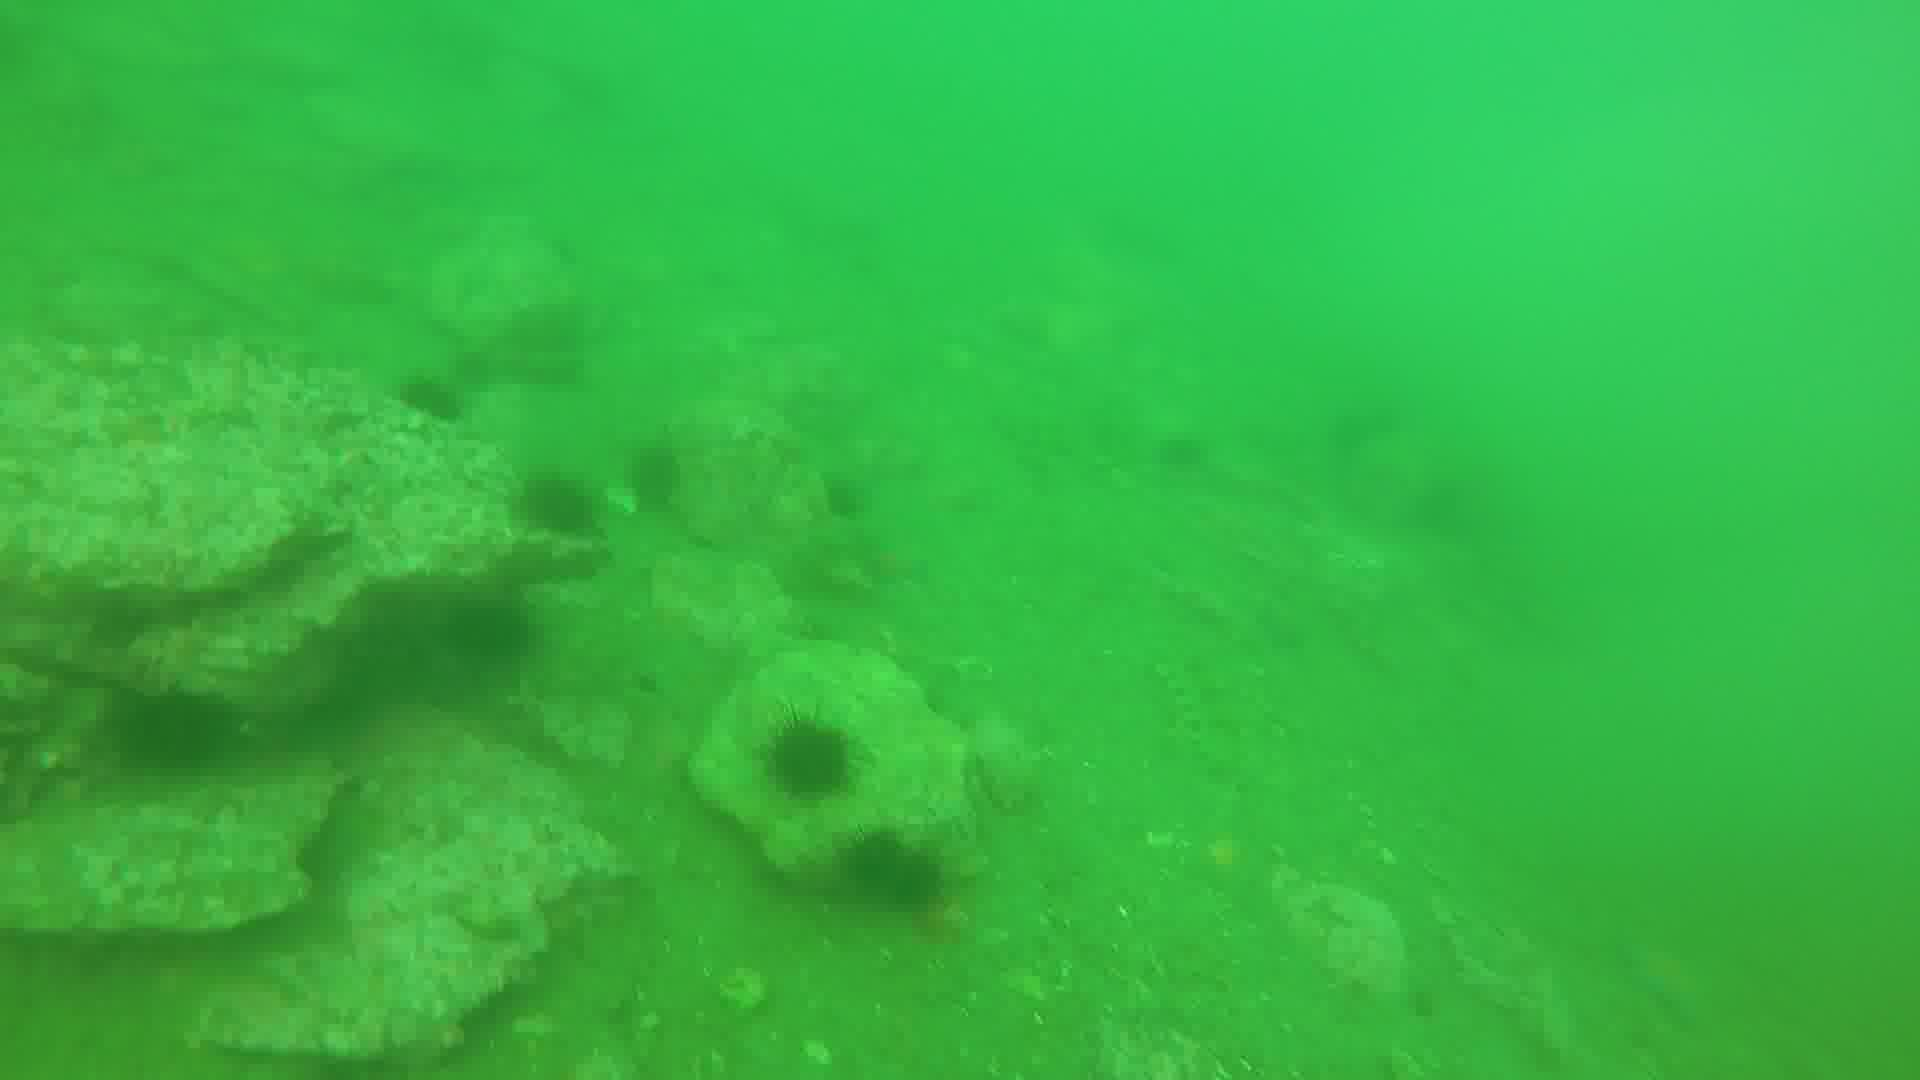echinus: (760, 719, 856, 800), (99, 698, 177, 779), (524, 483, 600, 559), (847, 825, 916, 894), (473, 589, 521, 663), (398, 373, 462, 427), (893, 855, 949, 911), (637, 446, 684, 512)
holothurian: (1164, 634, 1269, 785)
